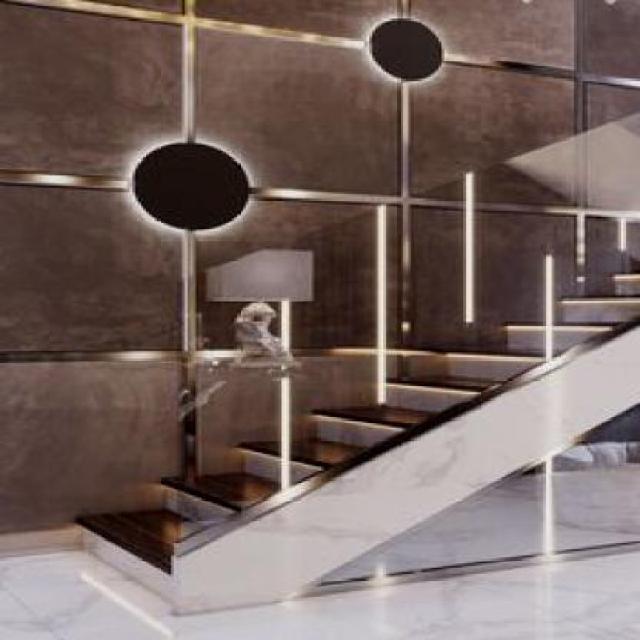stair: (46, 215, 640, 607)
